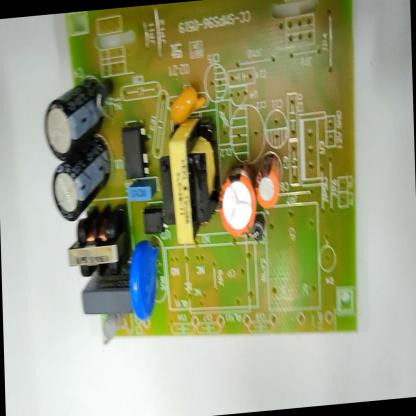Cap1: (217, 152, 259, 242)
Cap2: (255, 148, 283, 213)
Cap3: (48, 135, 115, 228)
Cap4: (40, 81, 111, 163)
MOSFET: (121, 120, 152, 188)
Mov: (128, 236, 163, 326)
Resistor: (101, 314, 121, 344)
Transformer: (156, 113, 222, 248), (64, 196, 137, 284)
